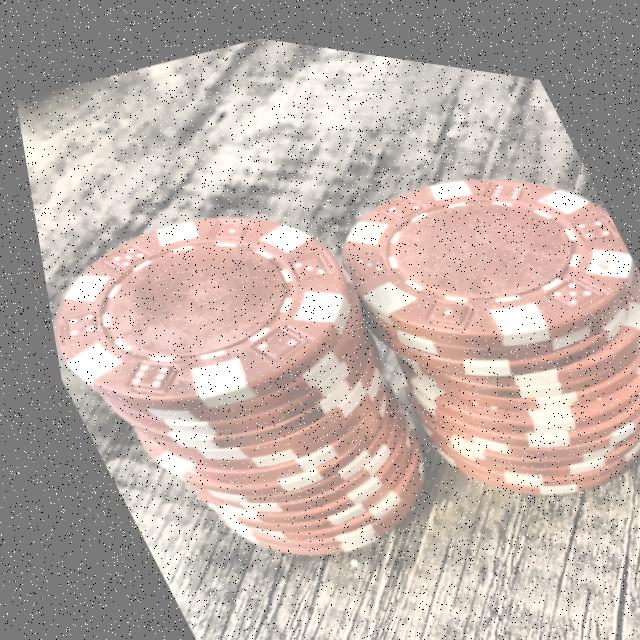Chip: (15, 117, 497, 628), (241, 64, 640, 556)
